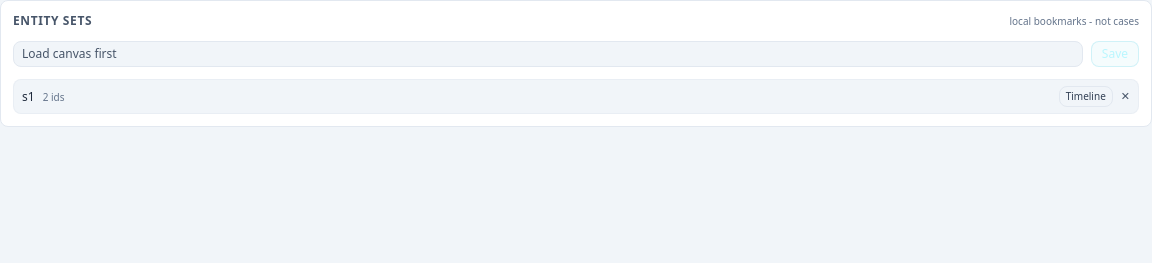
EntitySetPanel › renders the trace-cited timeline and links each row
The image size is (1152, 263).
Click the button with test id "entity-set-timeline-s1". click: [1086, 96]
box: x1=1059 y1=86 x2=1113 y2=107
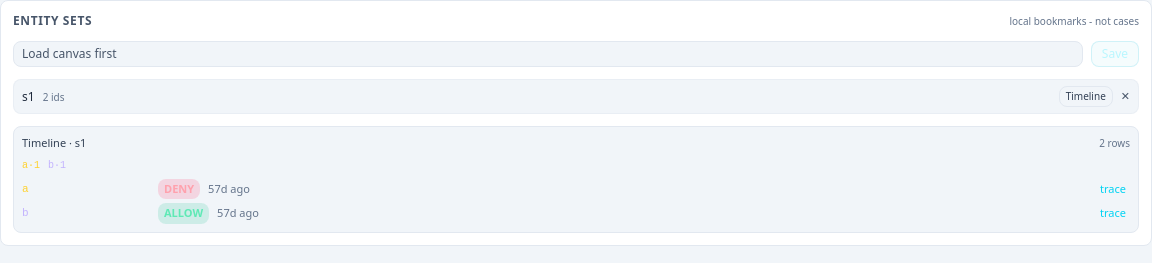
Check: the text with test id "entity-timeline-count" reads "2 rows", box x1=1099 y1=136 x2=1130 y2=151
Check: the number of links "trace" is 2, box x1=1100 y1=180 x2=1126 y2=197; x1=1100 y1=205 x2=1126 y2=222
Check: the text "DENY" is shown, box x1=158 y1=178 x2=200 y2=199
